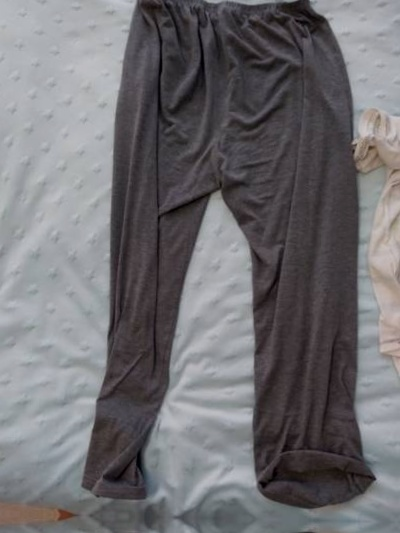Pants: (55, 0, 388, 498)
